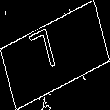L_S: (39, 26, 71, 84)
